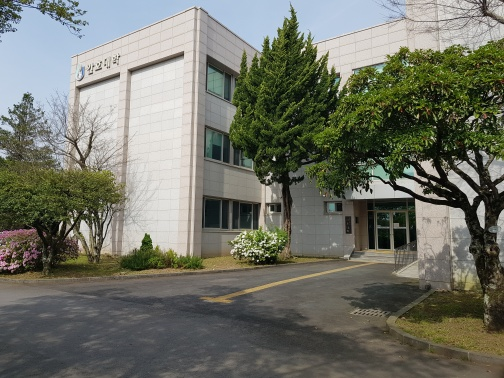College of Nursing: (59, 33, 488, 288), (73, 48, 127, 83)
